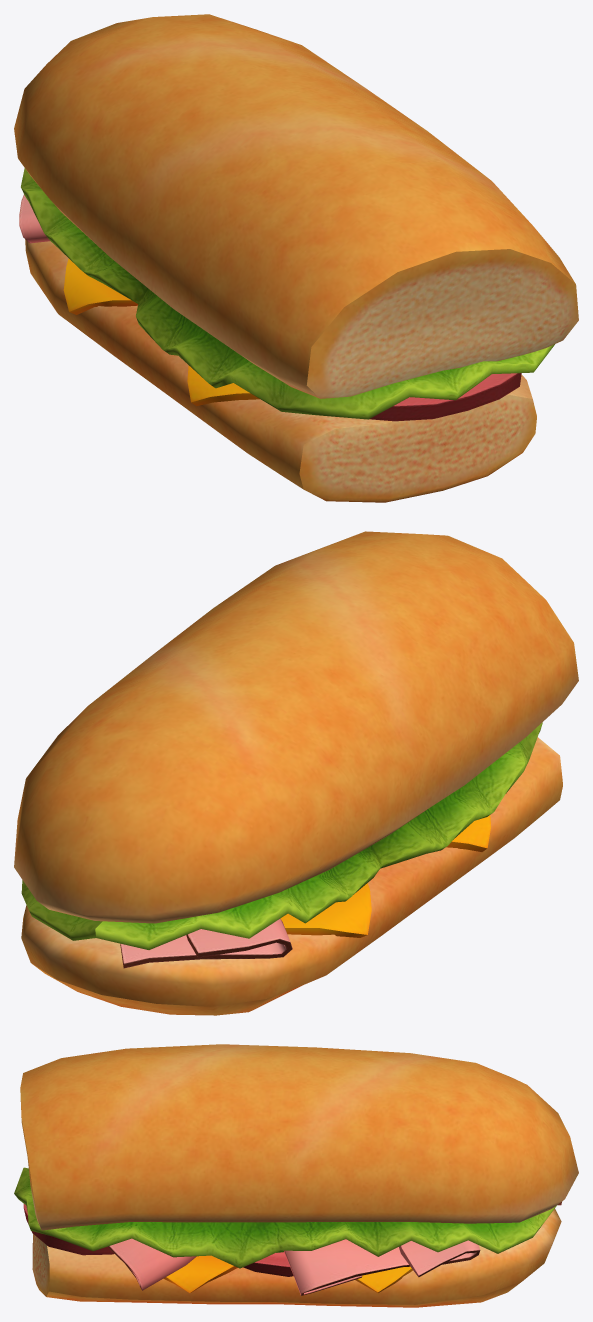
The model's file is SubmarineSandwich_1.fbx.
3 views of the same model, one above another, from view 1: azimuth 30°, elevation 25°; view 2: azimuth 150°, elevation 25°; view 3: azimuth 270°, elevation 25° (orthographic). The views are drawn at different scales.
Parts seen in each view (by area): view 1: SubmarineSandwich_1; view 2: SubmarineSandwich_1; view 3: SubmarineSandwich_1.
Boxes of the visible parts, x1=… form: SubmarineSandwich_1: x1=14, y1=14, x2=578, y2=502; SubmarineSandwich_1: x1=14, y1=531, x2=578, y2=1015; SubmarineSandwich_1: x1=14, y1=1044, x2=578, y2=1307.
Bounding box in the file's own units: 48.56 × 40.3 × 95.5.
1 material, 1 textured.
